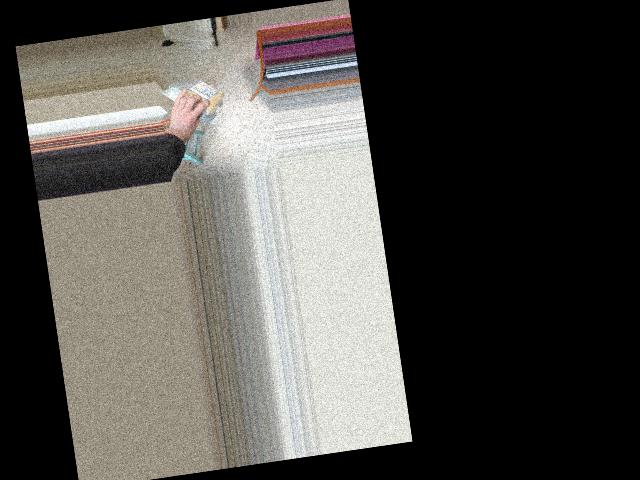cheese: (160, 76, 232, 115)
